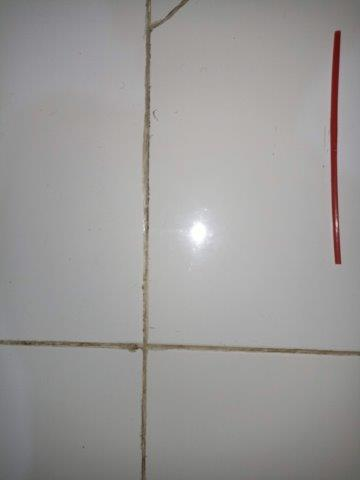sedotan: (331, 31, 343, 264)
